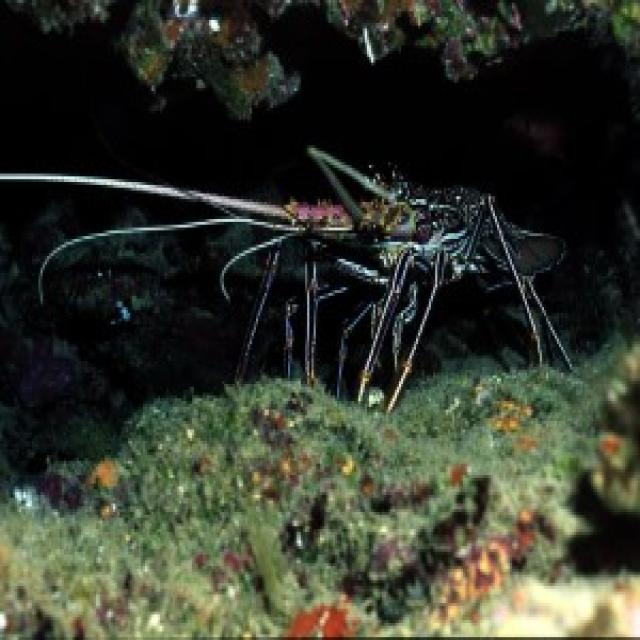lobsters: (5, 150, 573, 408)
